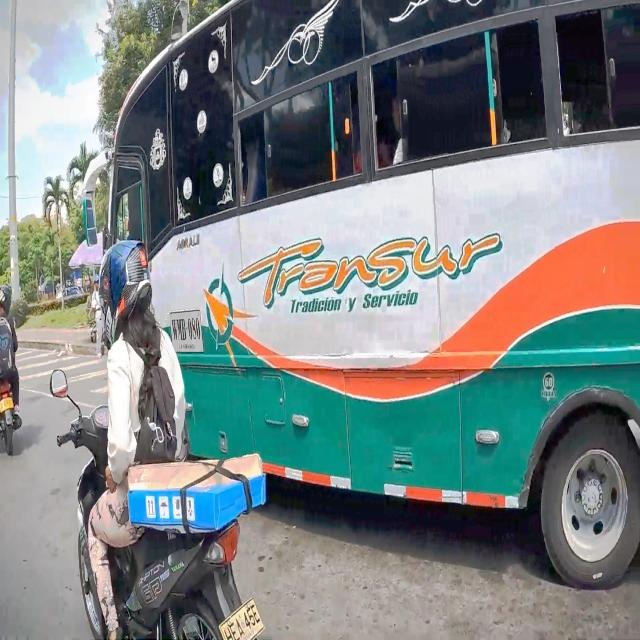license_plate: (218, 596, 265, 639), (170, 312, 204, 352)
